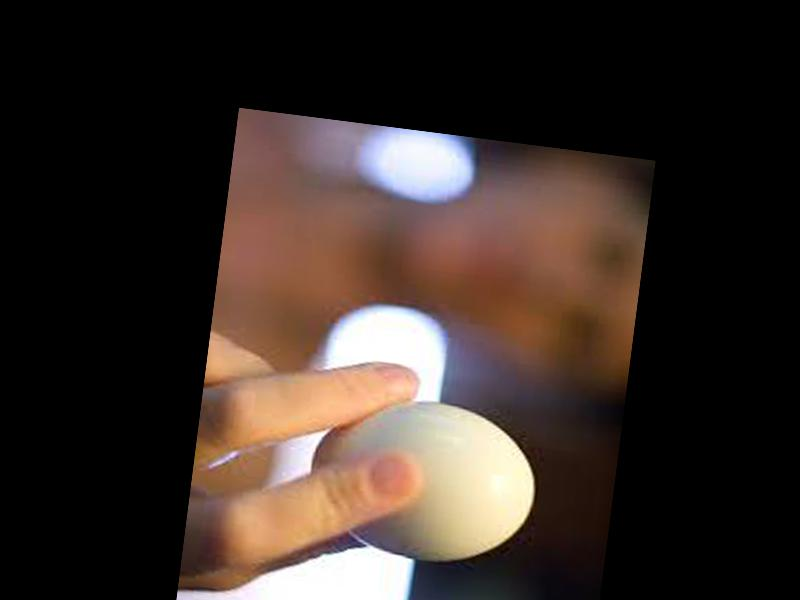Eggs: (301, 384, 544, 570)
